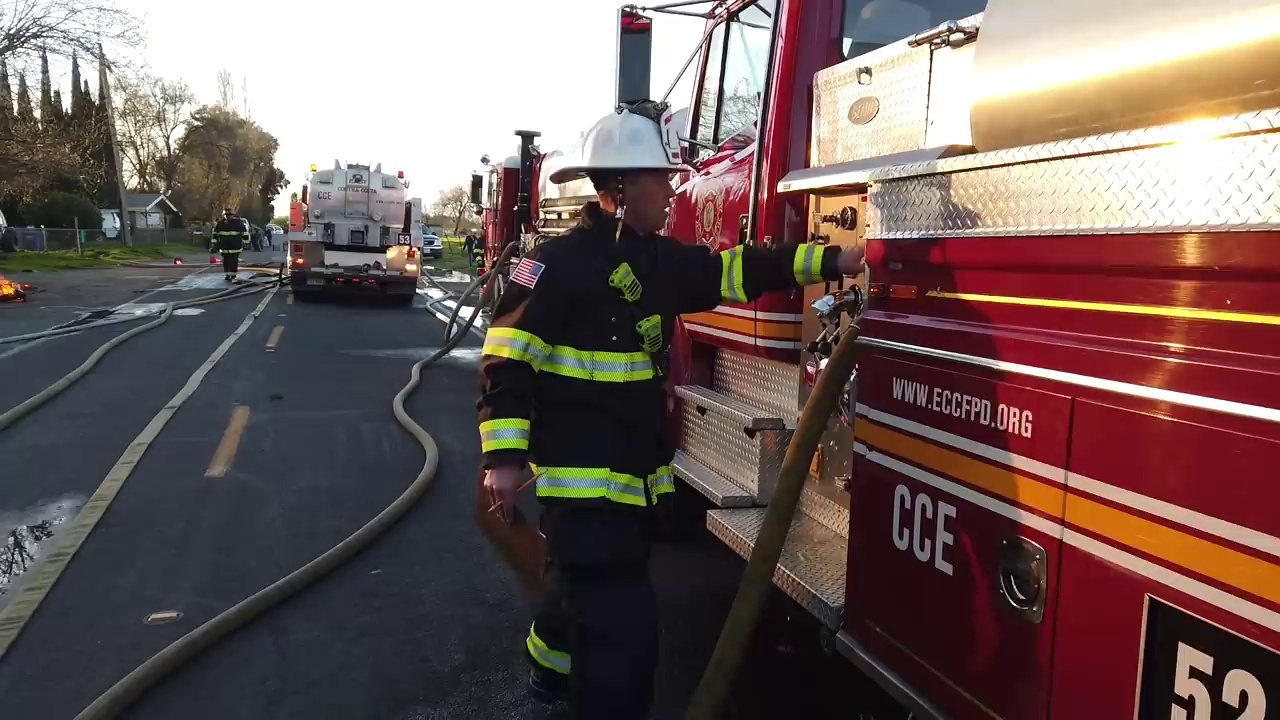fire: (0, 273, 26, 297)
